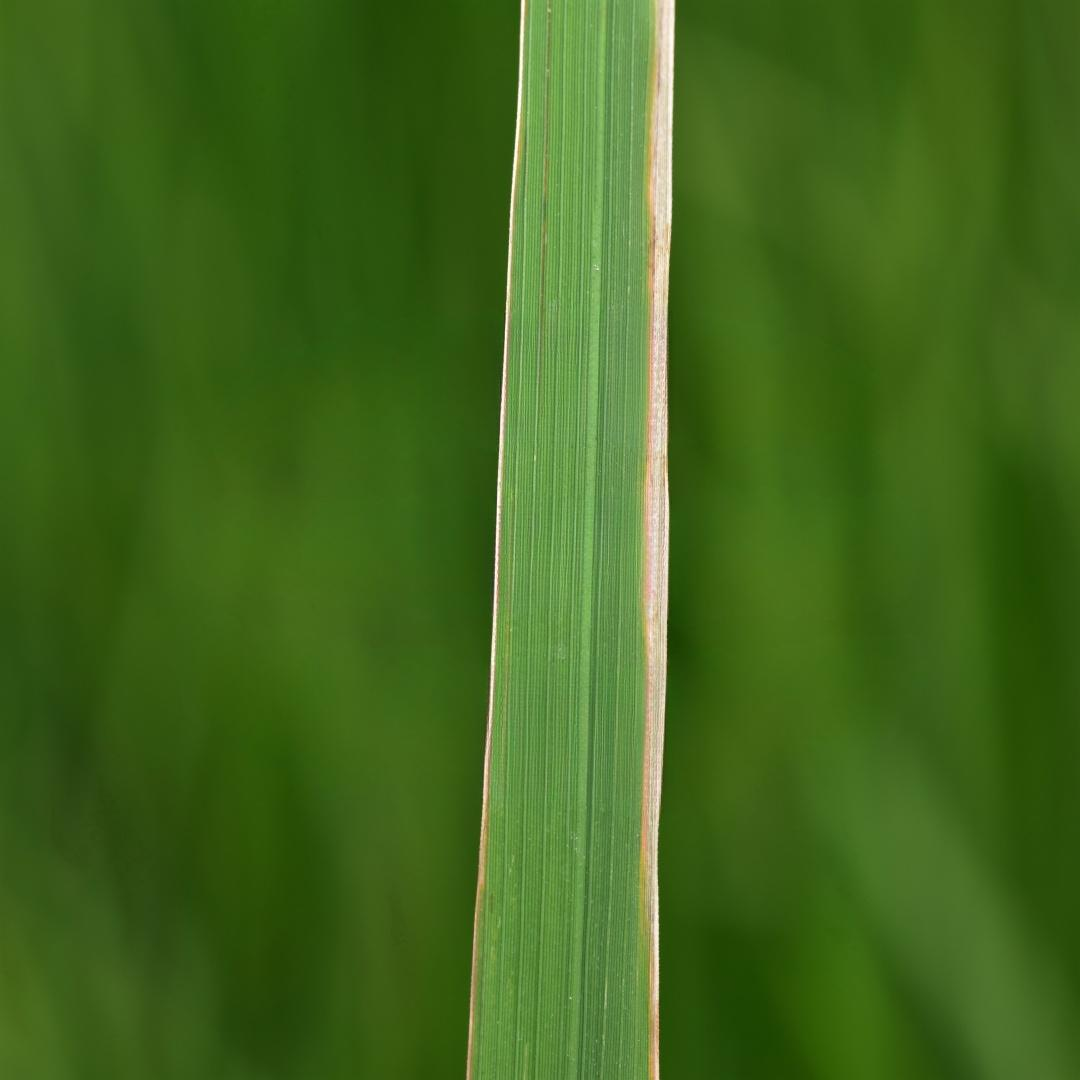BLB: (643, 0, 674, 1079)
